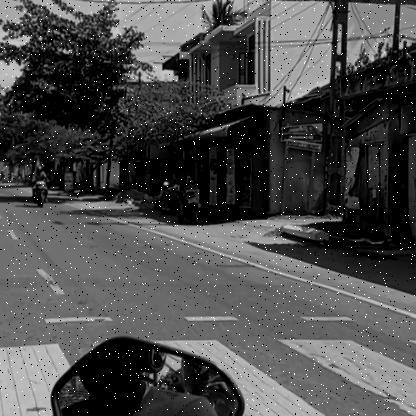motorcycle: (29, 179, 50, 210)
